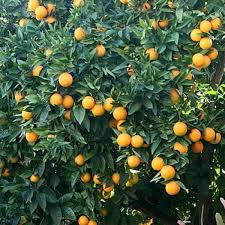orange: (173, 122, 189, 138), (130, 134, 145, 150), (149, 156, 166, 170), (114, 108, 131, 121), (118, 133, 134, 146), (59, 74, 73, 88), (81, 95, 95, 109), (192, 52, 205, 67), (102, 97, 116, 110), (49, 94, 64, 106)
